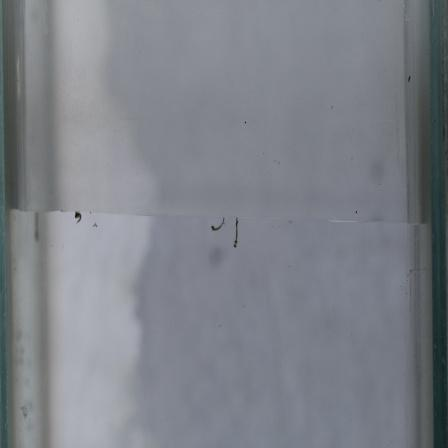Jentik-Nyamuk: (228, 216, 247, 251), (207, 213, 227, 235)
